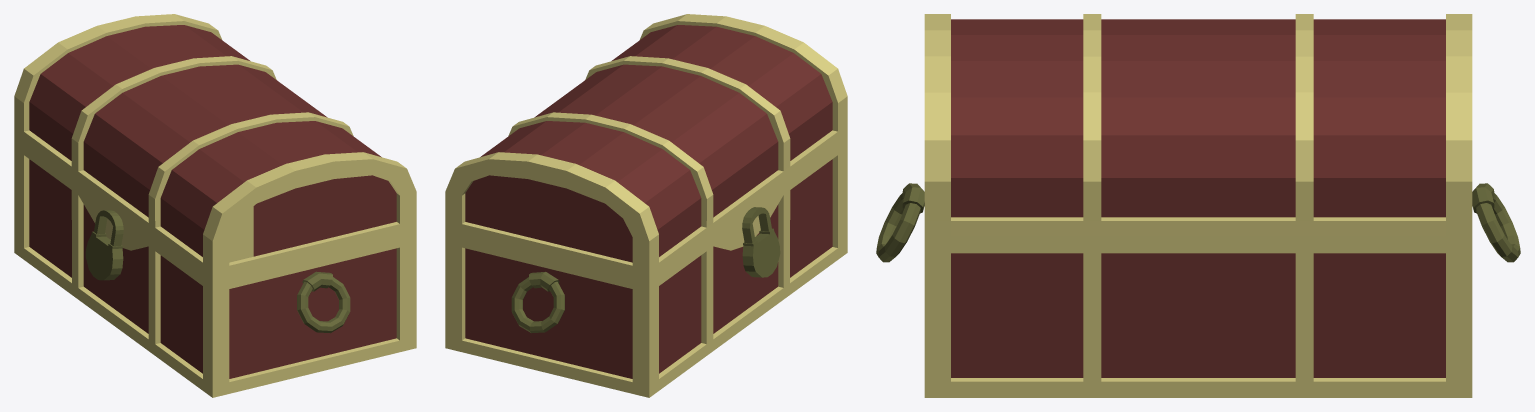
The model's file is bau.fbx.
The picture shows the model from 3 angles, left to right: view 1: azimuth 30°, elevation 25°; view 2: azimuth 150°, elevation 25°; view 3: azimuth 270°, elevation 25°; orthographic projection. The views are drawn at different scales.
Parts seen in each view (by area): view 1: madeixa.003; view 2: madeixa.003; view 3: madeixa.003.
Boxes of the visible parts, <box> form: madeixa.003: <box>14,14,416,397</box>; madeixa.003: <box>445,14,847,397</box>; madeixa.003: <box>876,14,1520,397</box>.
Size of the model in its own units: 83.96 by 74.17 by 152.
